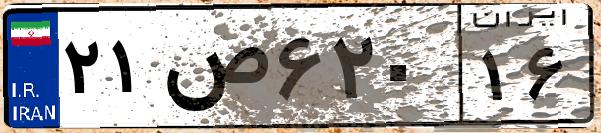0: (385, 28, 445, 110)
1: (475, 38, 525, 113), (110, 28, 158, 98)
2: (330, 28, 385, 110), (57, 26, 110, 100)
6: (270, 28, 330, 110), (525, 38, 570, 115)
ص: (158, 20, 270, 120)
